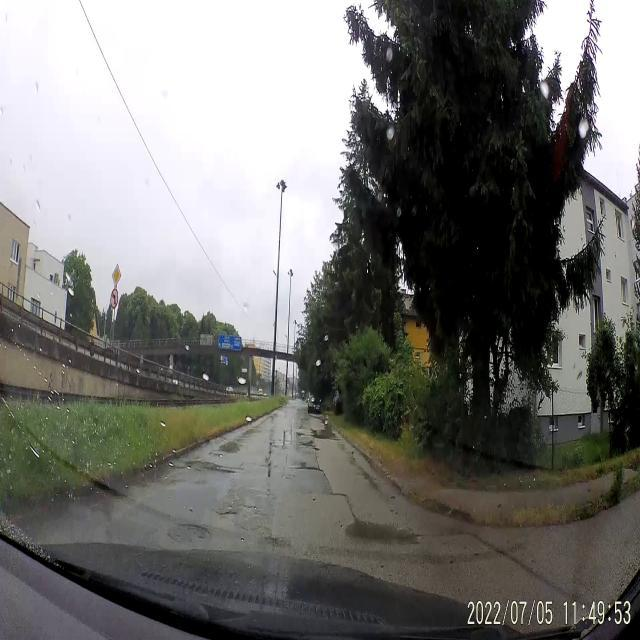Manhole: (162, 518, 226, 554)
